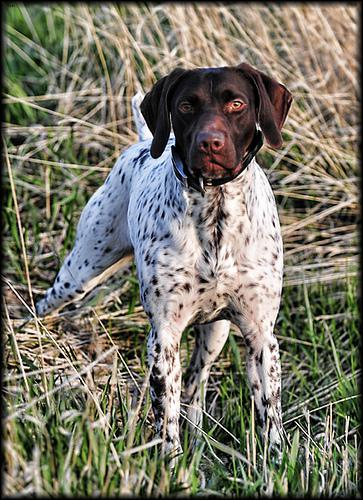dog-german_shorthaired: (139, 61, 290, 178)
